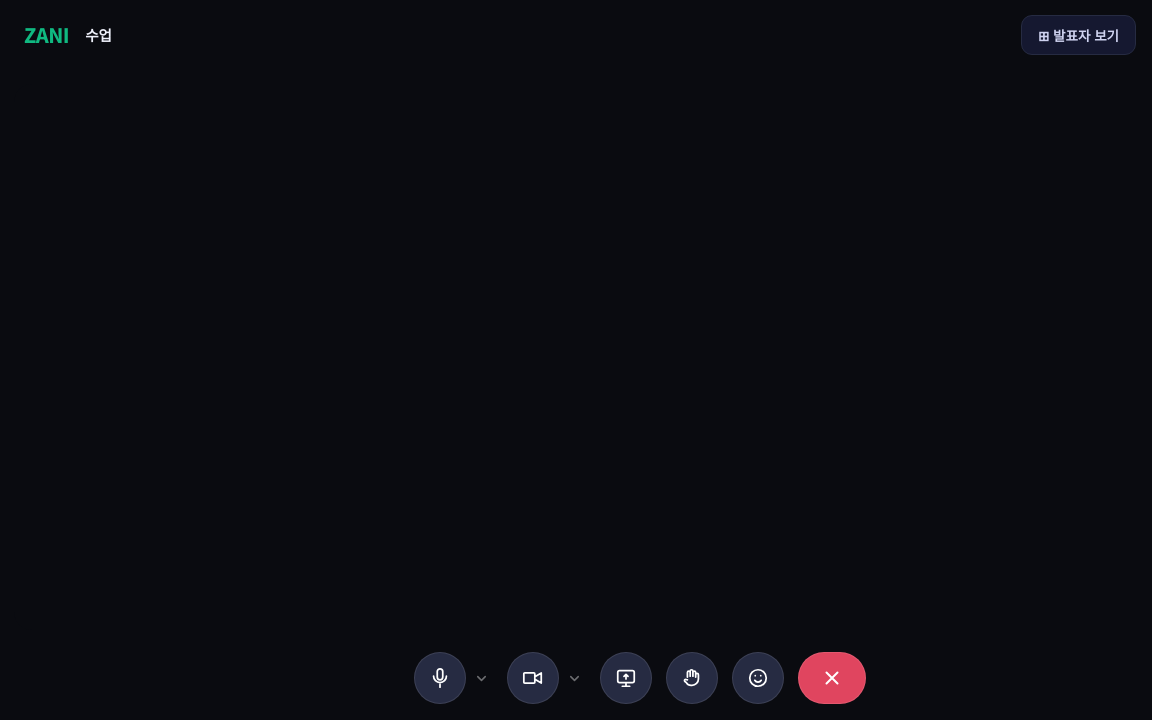
RoomScreen attention wiring › 발표자 보기에서 강사가 아직 없으면 기다린다고 알린다
Click the button "⊞ 발표자 보기". click: (1078, 35)
box: [1021, 15, 1136, 55]
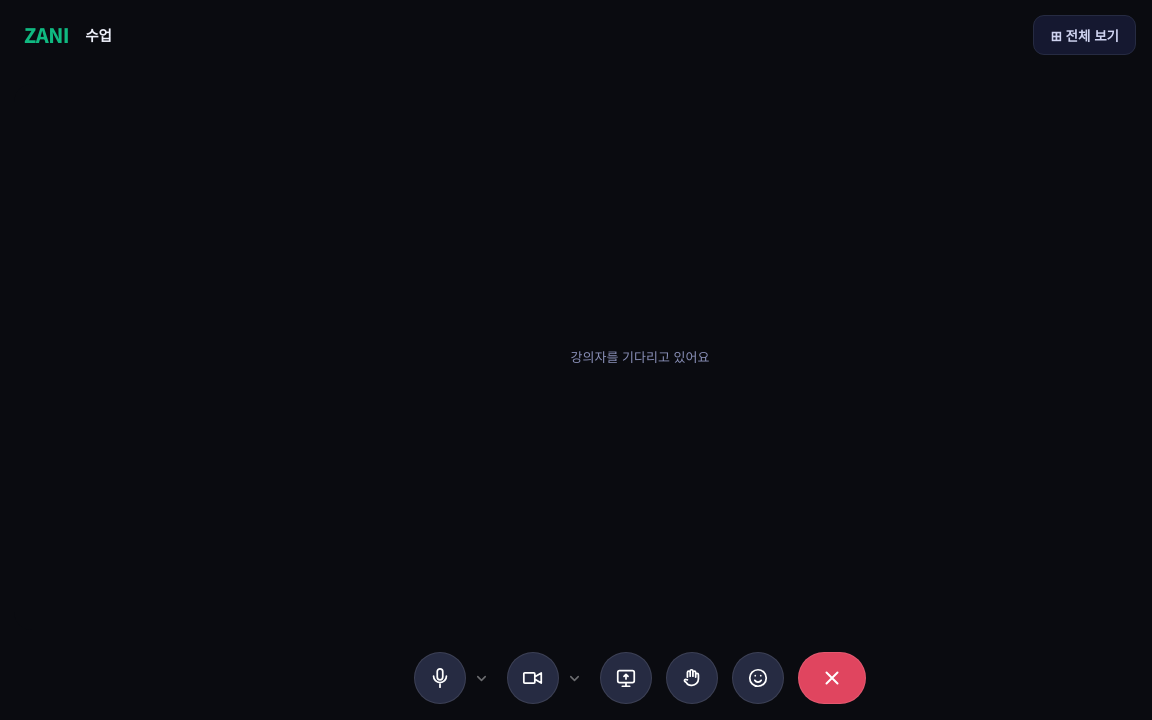
Check: the text "강의자를 기다리고 있어요" is shown, box [571, 347, 709, 366]
